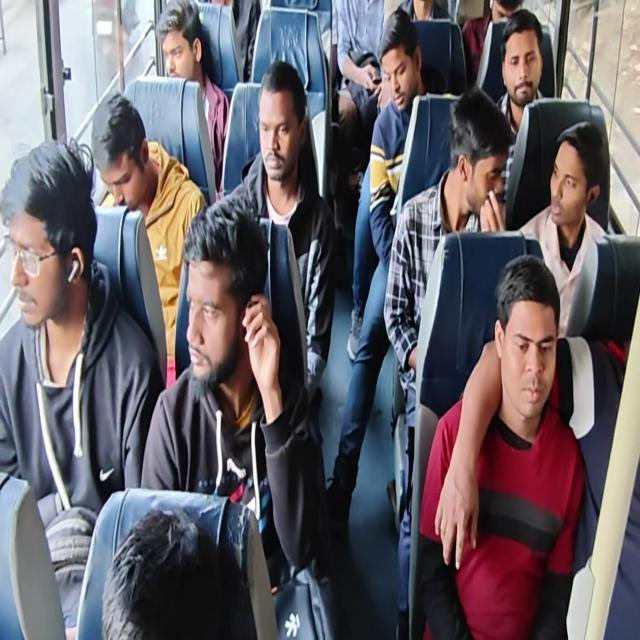person: (101, 511, 253, 640), (2, 148, 90, 314), (184, 214, 254, 389), (493, 272, 553, 437), (87, 100, 159, 216), (442, 98, 506, 219), (550, 130, 603, 240), (257, 73, 301, 190), (155, 0, 207, 82), (378, 21, 422, 116), (505, 28, 541, 106), (481, 0, 526, 41)
